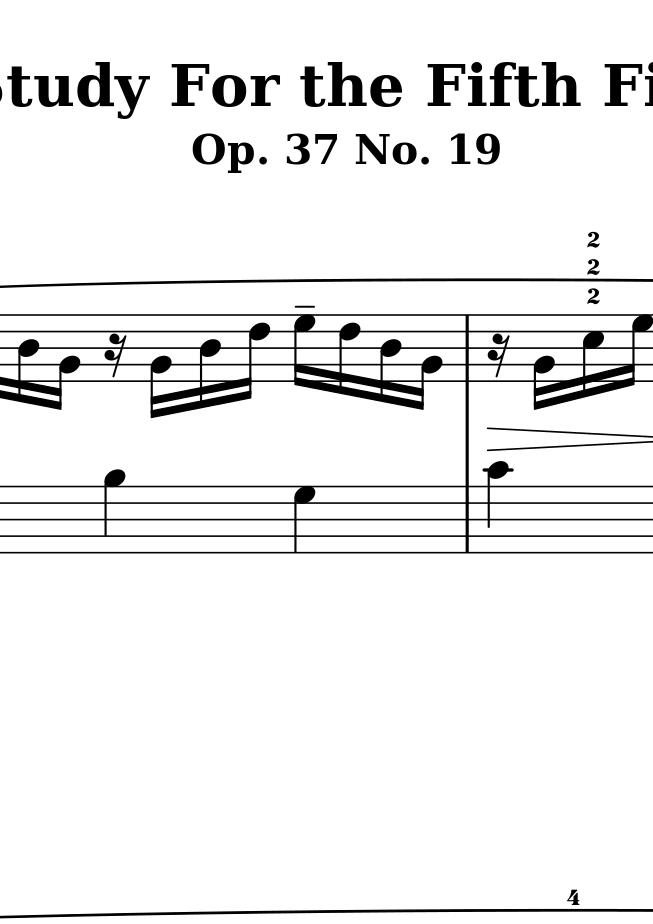16_2: (50, 312, 80, 412), (414, 312, 442, 411), (149, 313, 173, 417), (532, 312, 556, 412)
16_4: (197, 313, 222, 410), (16, 313, 40, 407), (378, 313, 402, 405)
16_5: (580, 312, 605, 401)
16_6: (237, 311, 270, 402), (337, 310, 362, 399)
16_7: (623, 312, 651, 391), (291, 309, 315, 393)
2: (584, 285, 602, 306), (586, 229, 602, 251), (585, 257, 602, 277)
4_10: (482, 460, 512, 555)
4_7: (292, 484, 317, 554)
4_9: (103, 468, 126, 554)
Diminuendo_hairpin: (486, 423, 653, 449)
Rests16: (104, 332, 128, 378), (487, 332, 511, 378)
Single_barline: (459, 486, 475, 552), (459, 316, 474, 381)
